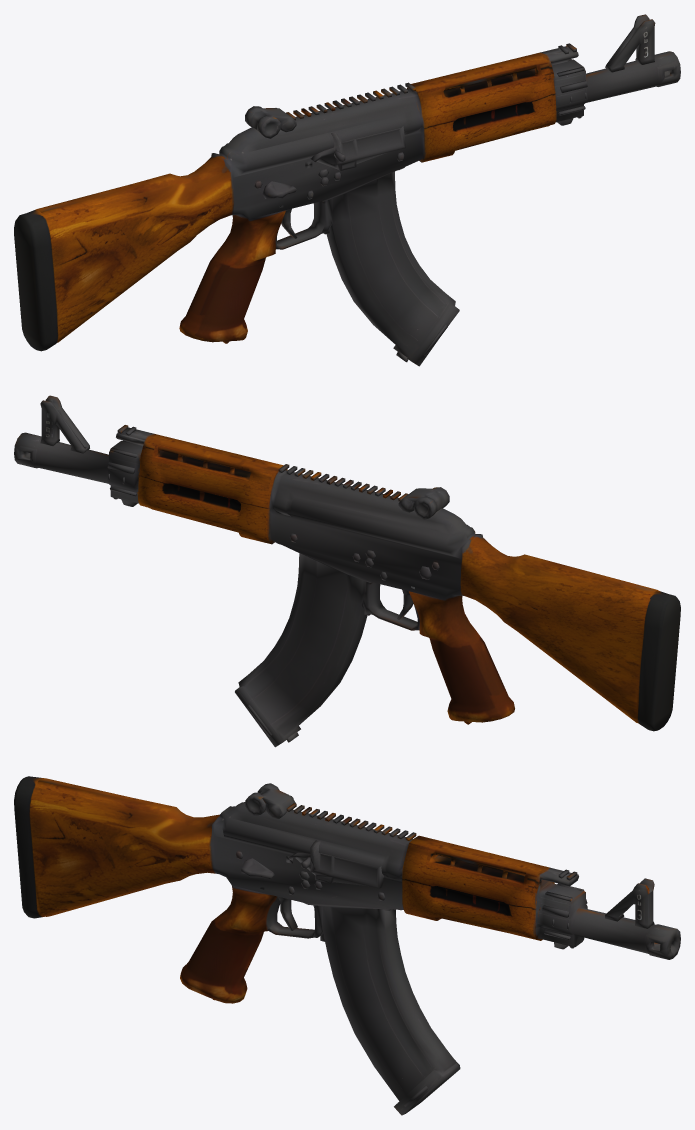
Rendered from akm_hunyuan_lowpoly.glb.
3 renders of one model, top to bottom at view 1: azimuth 30°, elevation 25°; view 2: azimuth 150°, elevation 25°; view 3: azimuth 330°, elevation 25°, orthographic.
Parts seen in each view (by area): view 1: material; view 2: material; view 3: material.
Boxes of the visible parts, box(x1,y1,x2,y2) form: material: box(14, 14, 680, 366); material: box(14, 395, 680, 747); material: box(14, 776, 680, 1115).
Size of the model in its own units: 1.9 by 0.7923 by 0.1641.
Materials: 1 (1 with a texture image).
